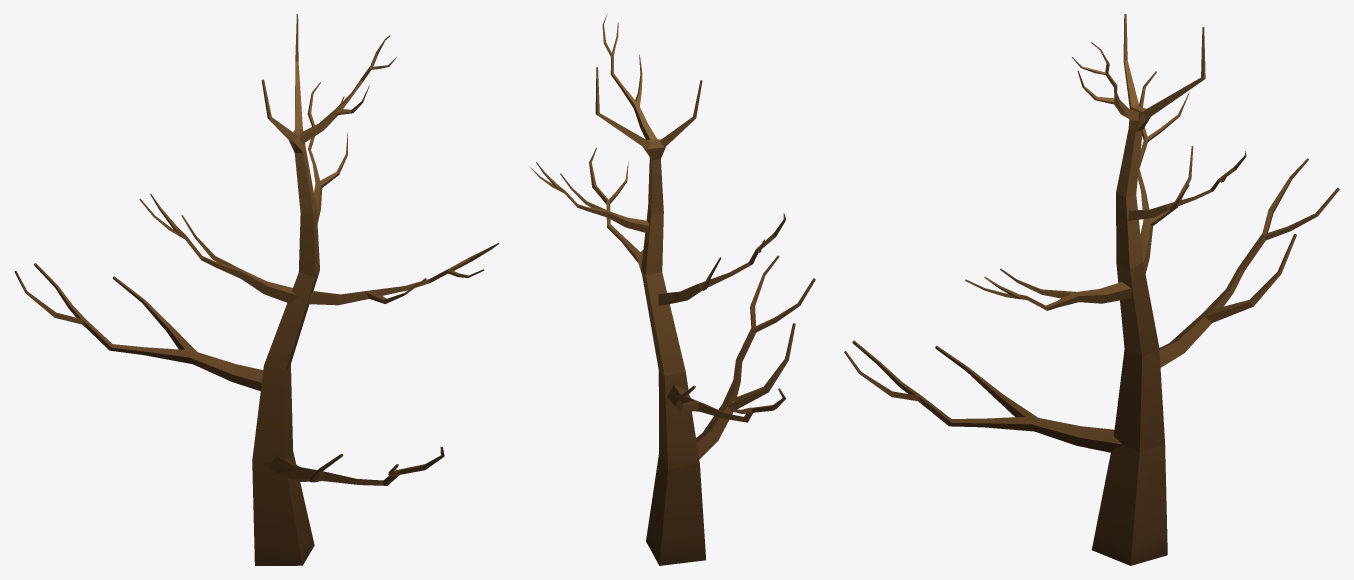
The model's file is Tree_03.fbx.
3 renders of one model, left to right at view 1: azimuth 30°, elevation 25°; view 2: azimuth 150°, elevation 25°; view 3: azimuth 270°, elevation 25°, orthographic. The views are drawn at different scales.
Visible parts, largest first — view 1: Tree_03_LOD0; view 2: Tree_03_LOD0; view 3: Tree_03_LOD0.
Part boxes in pixels (x1,y1,x2,y2): Tree_03_LOD0: (14, 14, 499, 565); Tree_03_LOD0: (529, 14, 815, 565); Tree_03_LOD0: (844, 14, 1339, 565).
Size of what is drawn, in the model's own units: 373 by 546 by 438.
